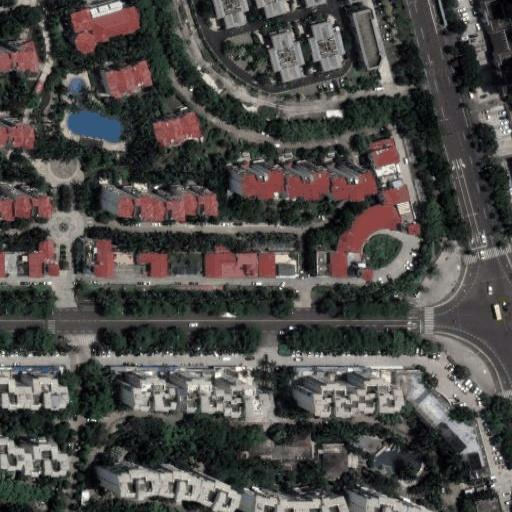building: (124, 366, 260, 416), (89, 459, 205, 512), (225, 157, 359, 190), (290, 376, 381, 421), (69, 0, 145, 51), (334, 202, 400, 253), (370, 138, 411, 207), (237, 485, 337, 512), (101, 182, 202, 208), (0, 368, 64, 405), (266, 27, 309, 81), (307, 18, 350, 72), (153, 111, 204, 151), (353, 9, 385, 71), (409, 387, 452, 430), (104, 62, 154, 98), (204, 253, 276, 278), (210, 0, 253, 29), (481, 0, 512, 36), (435, 423, 467, 455), (355, 497, 421, 512), (28, 241, 54, 278), (0, 186, 34, 211), (253, 0, 293, 21), (93, 241, 115, 276), (138, 253, 168, 277), (496, 50, 512, 88), (490, 31, 512, 56), (276, 254, 299, 276), (293, 366, 365, 373), (272, 445, 310, 458), (172, 260, 200, 277), (397, 367, 423, 384), (324, 454, 346, 474), (397, 201, 417, 223), (476, 497, 504, 512), (316, 252, 332, 278), (331, 254, 347, 277), (467, 452, 482, 471), (251, 445, 272, 458), (408, 219, 421, 236), (292, 433, 310, 445), (48, 262, 61, 277), (324, 444, 343, 454), (346, 454, 357, 468), (215, 243, 230, 253), (242, 448, 251, 458), (317, 447, 324, 454)
